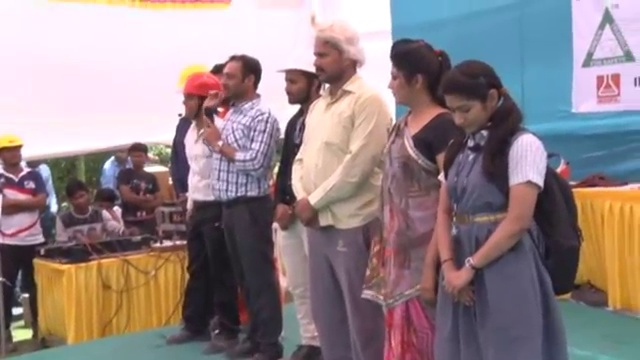helmet: (180, 69, 221, 99), (277, 55, 317, 75), (0, 133, 26, 149)
helmet_off: (441, 58, 514, 144), (386, 37, 445, 111), (306, 26, 368, 88), (213, 54, 263, 103), (61, 177, 91, 212), (93, 190, 118, 214), (127, 143, 148, 171), (114, 148, 128, 165)
helmet_on: (276, 54, 318, 110), (180, 69, 221, 124), (1, 134, 26, 175)
person: (426, 50, 584, 358), (294, 17, 388, 360), (370, 36, 455, 357), (161, 66, 241, 357), (204, 56, 280, 360), (272, 52, 328, 360), (0, 135, 53, 343), (54, 177, 139, 242), (116, 143, 161, 239), (100, 146, 133, 190), (93, 188, 123, 229)
